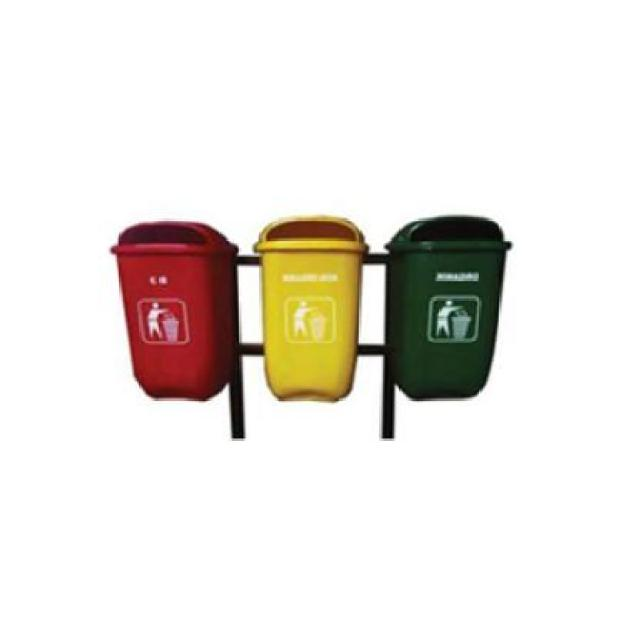garbage container: (103, 207, 251, 425), (367, 213, 522, 421), (245, 208, 378, 415)
